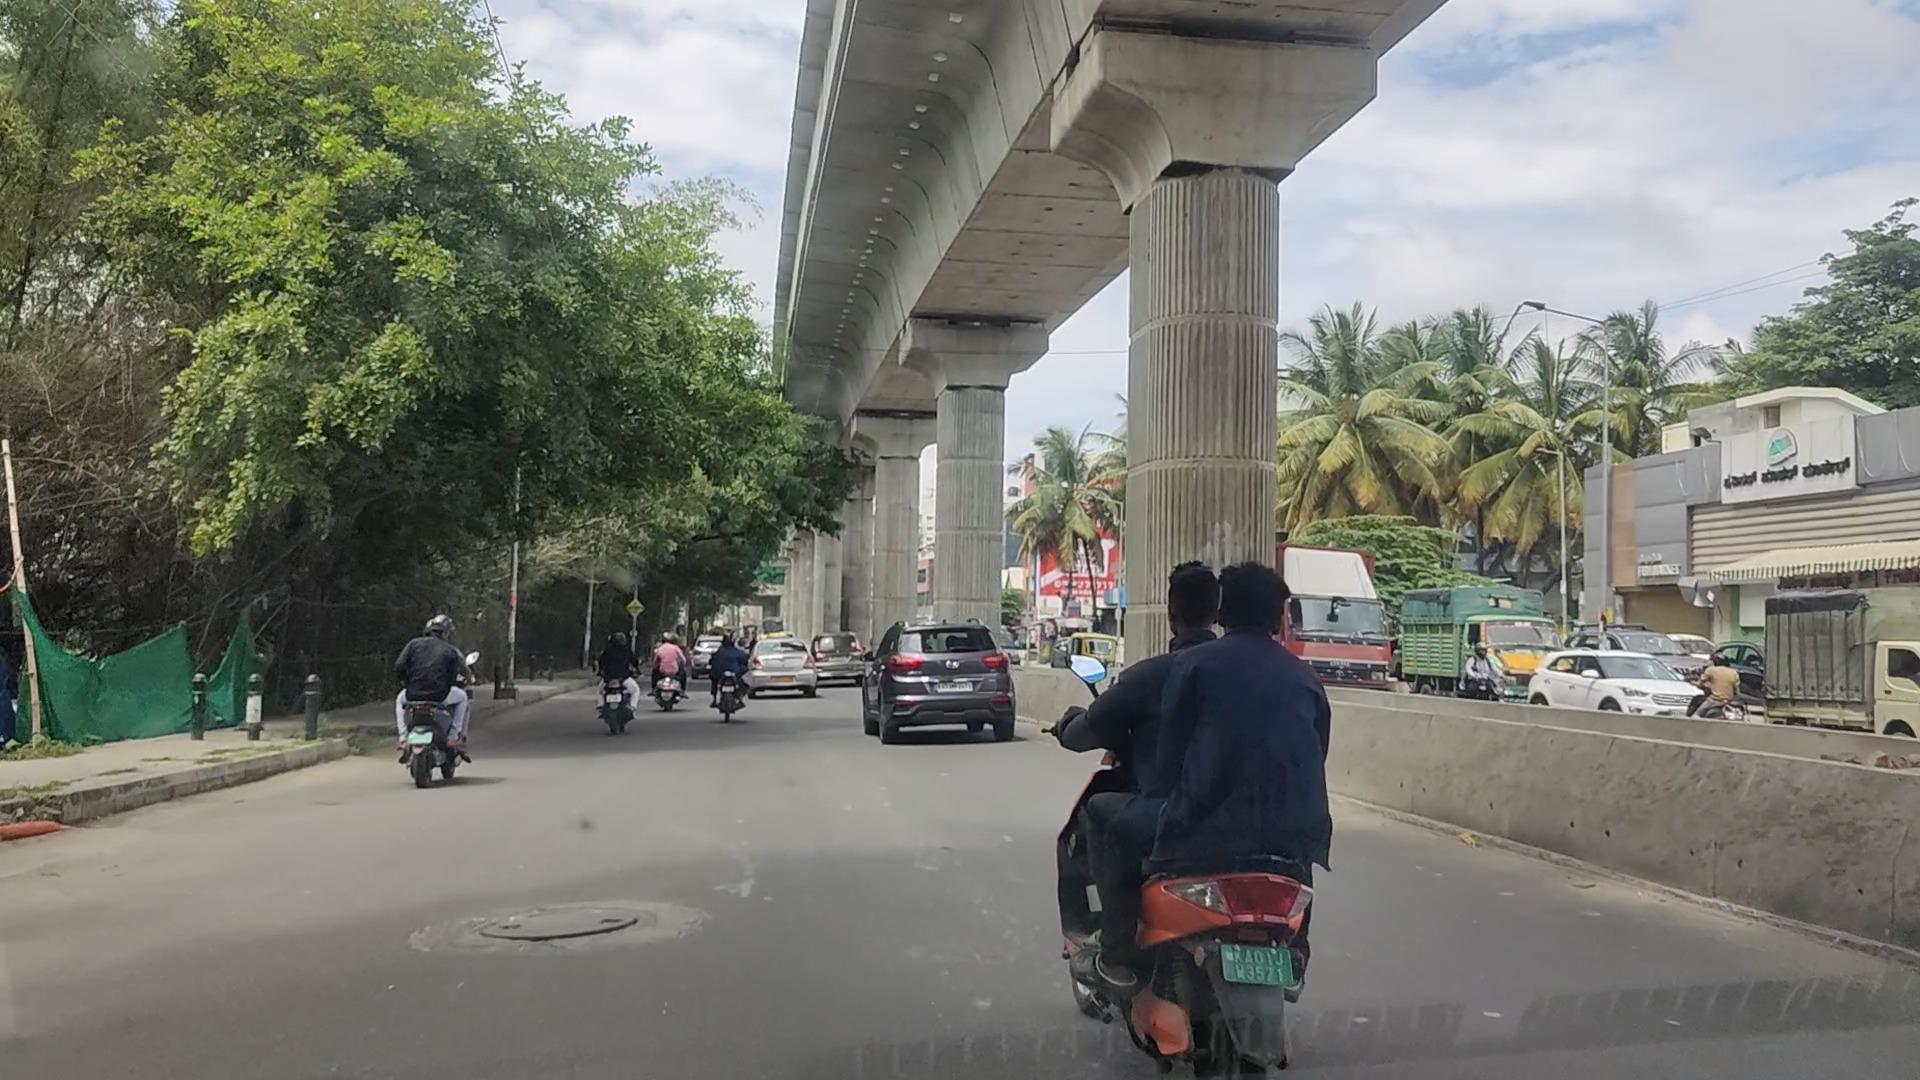LMV: (1039, 541, 1350, 1080), (861, 615, 1034, 749), (404, 589, 484, 791), (709, 621, 762, 728), (601, 618, 649, 737)
RoadDamages: (404, 890, 696, 959)
